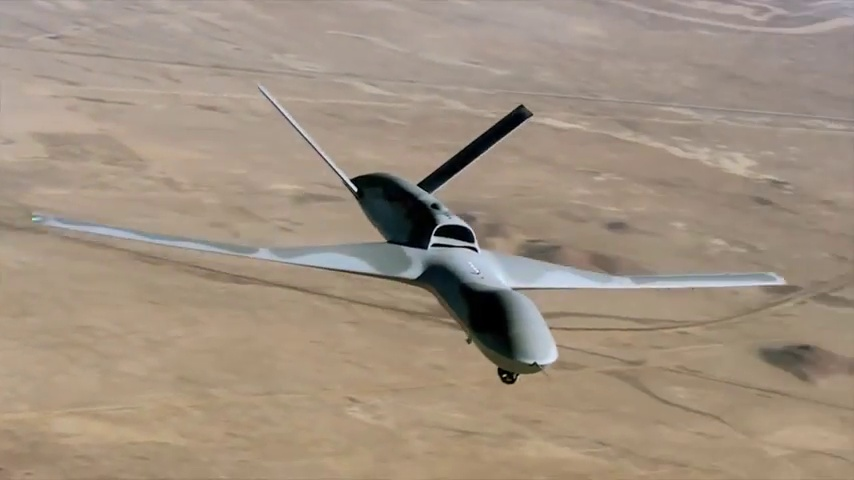military drone: (28, 84, 789, 383)
